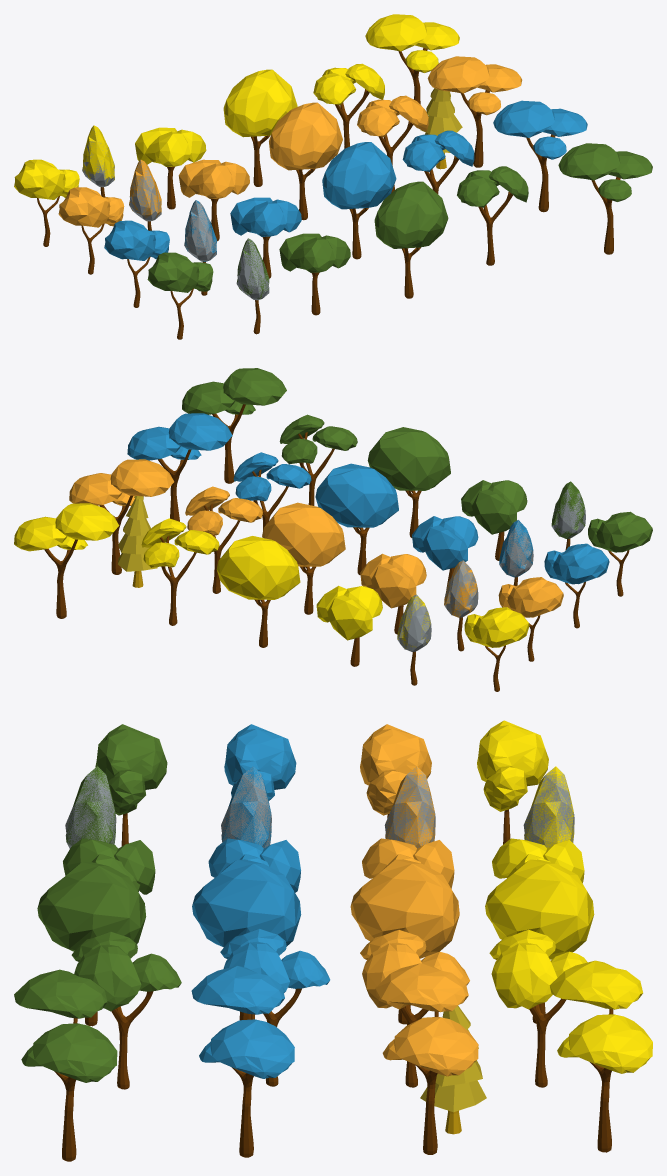
The model's file is tree.glb.
3 views of the same model, one above another, from view 1: azimuth 30°, elevation 25°; view 2: azimuth 150°, elevation 25°; view 3: azimuth 270°, elevation 25° (orthographic). The views are drawn at different scales.
Parts seen in each view (by area): view 1: Lowpolytree_4_blue, Lowpolytree_4_orange, Lowpolytree_4_green, Lowpolytree_4_yellow, Lowpolytree_6_blue, Lowpolytree_6_green, Lowpolytree_6_orange, Lowpolytree_6_yellow, Lowpolytree_03_green, Lowpolytree_03_yellow, Lowpolytree_5_green, Lowpolytree_03_blue (+13 smaller); view 2: Lowpolytree_4_yellow, Lowpolytree_4_blue, Lowpolytree_4_green, Lowpolytree_6_yellow, Lowpolytree_4_orange, Lowpolytree_6_blue, Lowpolytree_6_green, Lowpolytree_6_orange, Lowpolytree_5_yellow, Lowpolytree_03_yellow, Lowpolytree_03_green, Lowpolytree_5_green (+13 smaller); view 3: Lowpolytree_6_blue, Lowpolytree_6_yellow, Lowpolytree_6_orange, Lowpolytree_6_green, Lowpolytree_4_yellow, Lowpolytree_4_orange, Lowpolytree_4_green, Lowpolytree_4_blue, Lowpolytree_5_green, Lowpolytree_5_yellow, Lowpolytree_01_yellow, Lowpolytree_01_green (+13 smaller).
Part boxes in pixels (<box>): Lowpolytree_4_blue: <box>322,142,396,259</box>; Lowpolytree_4_orange: <box>269,102,342,220</box>; Lowpolytree_4_green: <box>374,181,448,298</box>; Lowpolytree_4_yellow: <box>223,69,297,186</box>; Lowpolytree_6_blue: <box>493,100,587,212</box>; Lowpolytree_6_green: <box>558,143,652,254</box>; Lowpolytree_6_orange: <box>427,56,522,167</box>; Lowpolytree_6_yellow: <box>365,14,459,125</box>; Lowpolytree_03_green: <box>279,233,350,315</box>; Lowpolytree_03_yellow: <box>135,127,206,209</box>; Lowpolytree_5_green: <box>457,166,528,265</box>; Lowpolytree_03_blue: <box>230,197,301,278</box>; Lowpolytree_4_yellow: <box>216,536,300,647</box>; Lowpolytree_4_blue: <box>315,463,398,575</box>; Lowpolytree_4_green: <box>367,427,450,537</box>; Lowpolytree_6_yellow: <box>14,503,119,618</box>; Lowpolytree_4_orange: <box>262,502,345,614</box>; Lowpolytree_6_blue: <box>127,413,232,521</box>; Lowpolytree_6_green: <box>182,368,286,483</box>; Lowpolytree_6_orange: <box>69,459,174,574</box>; Lowpolytree_5_yellow: <box>141,518,219,625</box>; Lowpolytree_03_yellow: <box>316,585,382,666</box>; Lowpolytree_03_green: <box>461,480,527,560</box>; Lowpolytree_5_green: <box>279,414,357,505</box>; Lowpolytree_6_blue: <box>191,965,294,1157</box>; Lowpolytree_6_yellow: <box>549,960,652,1152</box>; Lowpolytree_6_orange: <box>375,963,478,1154</box>; Lowpolytree_6_green: <box>14,969,117,1161</box>; Lowpolytree_4_yellow: <box>485,859,594,1023</box>; Lowpolytree_4_orange: <box>350,859,459,1024</box>; Lowpolytree_4_green: <box>37,862,146,1026</box>; Lowpolytree_4_blue: <box>192,859,301,1020</box>; Lowpolytree_5_green: <box>71,931,181,1089</box>; Lowpolytree_5_yellow: <box>489,929,587,1087</box>; Lowpolytree_01_yellow: <box>477,720,548,844</box>; Lowpolytree_01_green: <box>95,724,167,846</box>.
Bounding box in the file's own units: 20.93 × 4.76 × 16.04.
Materials: 7 (5 with a texture image).
